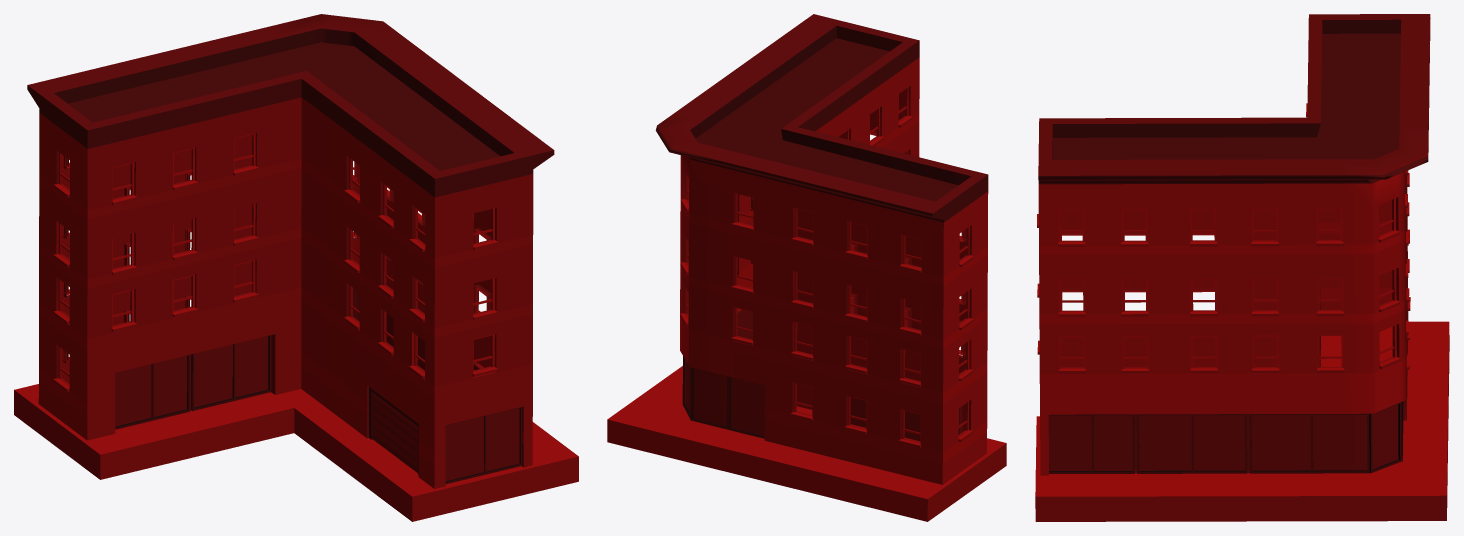
3 renders of one model, left to right at view 1: azimuth 30°, elevation 25°; view 2: azimuth 150°, elevation 25°; view 3: azimuth 270°, elevation 25°, orthographic. The views are drawn at different scales.
Visible parts, largest first — view 1: base.162; view 2: base.162; view 3: base.162.
Boxes of the visible parts, x1,y1,x2,y2 form: base.162: (14, 14, 578, 521); base.162: (607, 14, 1006, 521); base.162: (1035, 14, 1449, 521).
Size of the model in its own units: 2313 by 2313 by 2076.
